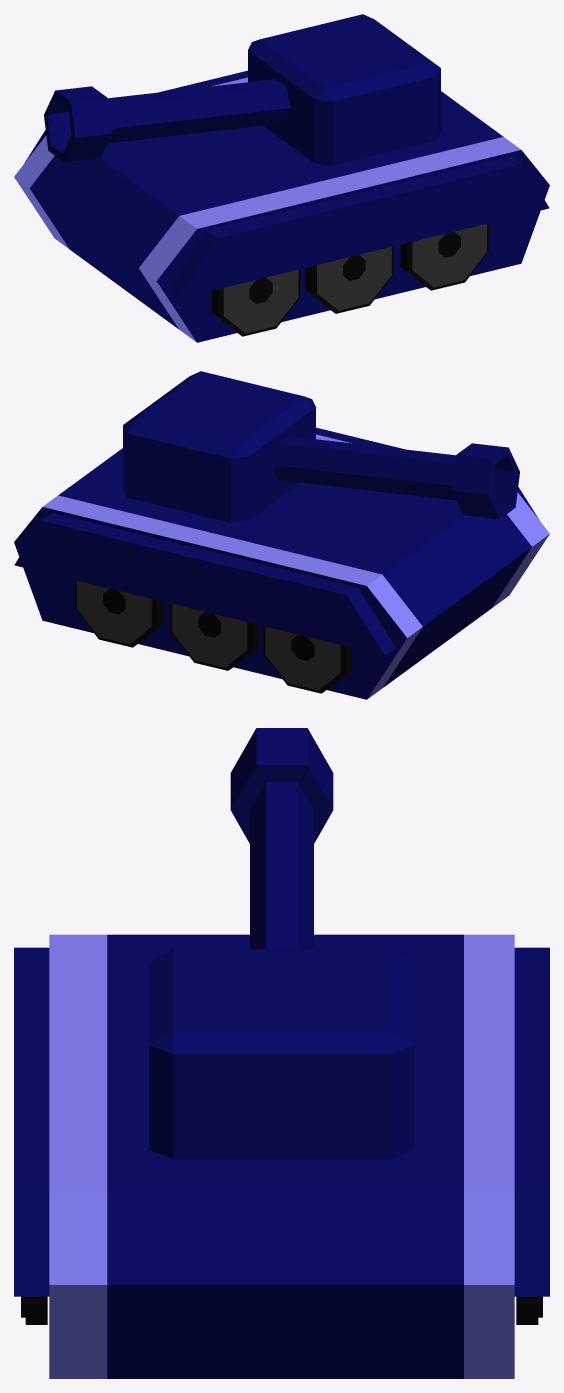
The model's file is tankB.fbx.
The picture shows the model from 3 angles, top to bottom: view 1: azimuth 30°, elevation 25°; view 2: azimuth 150°, elevation 25°; view 3: azimuth 270°, elevation 25°; orthographic projection. The views are drawn at different scales.
Visible parts, largest first — view 1: body, protections, head, canon, wheels; view 2: body, protections, head, canon, wheels; view 3: body, head, protections, canon, wheels.
Boxes of the visible parts, x1=… form: body: x1=14, y1=77, x2=549, y2=342; protections: x1=14, y1=70, x2=549, y2=298; head: x1=248, y1=14, x2=440, y2=165; canon: x1=44, y1=79, x2=290, y2=162; wheels: x1=212, y1=223, x2=489, y2=336; body: x1=14, y1=434, x2=549, y2=699; protections: x1=14, y1=427, x2=549, y2=655; head: x1=123, y1=371, x2=315, y2=522; canon: x1=273, y1=436, x2=519, y2=519; wheels: x1=74, y1=580, x2=351, y2=693; body: x1=49, y1=934, x2=514, y2=1378; head: x1=149, y1=949, x2=414, y2=1159; protections: x1=14, y1=947, x2=549, y2=1296; canon: x1=230, y1=728, x2=333, y2=949; wheels: x1=21, y1=1296, x2=542, y2=1324.
Bounding box in the file's own units: 261 × 124 × 175.
